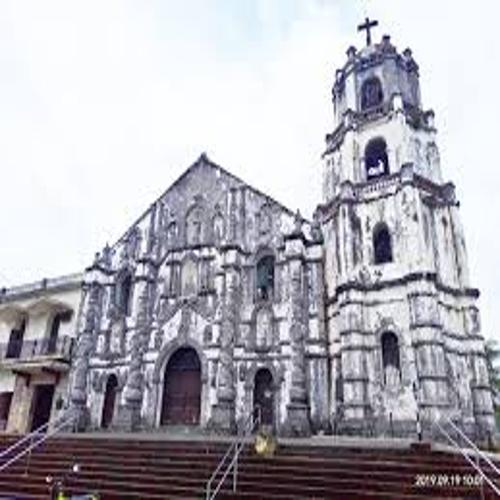Daraga Church: (88, 17, 494, 457)
